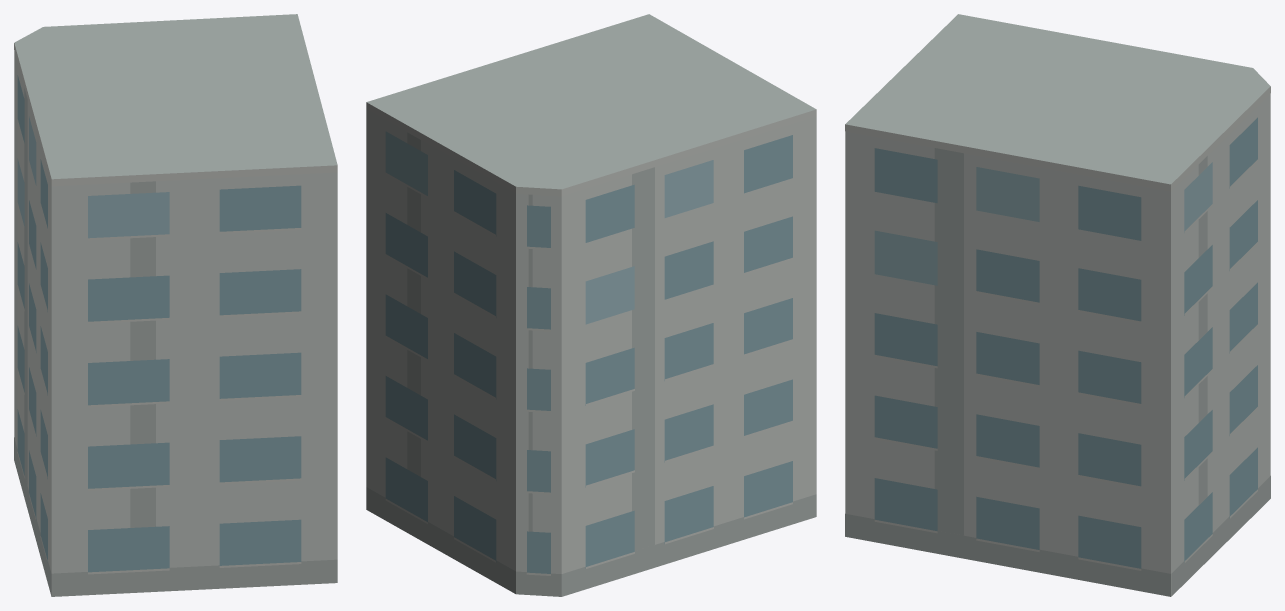
Rendered from survey-upis-32526680.glb.
3 views of the same model, side by side, from view 1: azimuth 30°, elevation 25°; view 2: azimuth 150°, elevation 25°; view 3: azimuth 270°, elevation 25° (orthographic). The views are drawn at different scales.
Visible parts, largest first — view 1: survey-upis-32526680.tmp; view 2: survey-upis-32526680.tmp; view 3: survey-upis-32526680.tmp.
Part boxes in pixels (bbox=[...]): survey-upis-32526680.tmp: bbox=[14, 14, 337, 596]; survey-upis-32526680.tmp: bbox=[366, 14, 816, 596]; survey-upis-32526680.tmp: bbox=[845, 14, 1270, 596].
Size of the model in its own units: 12.6 by 14.2 by 13.29.
